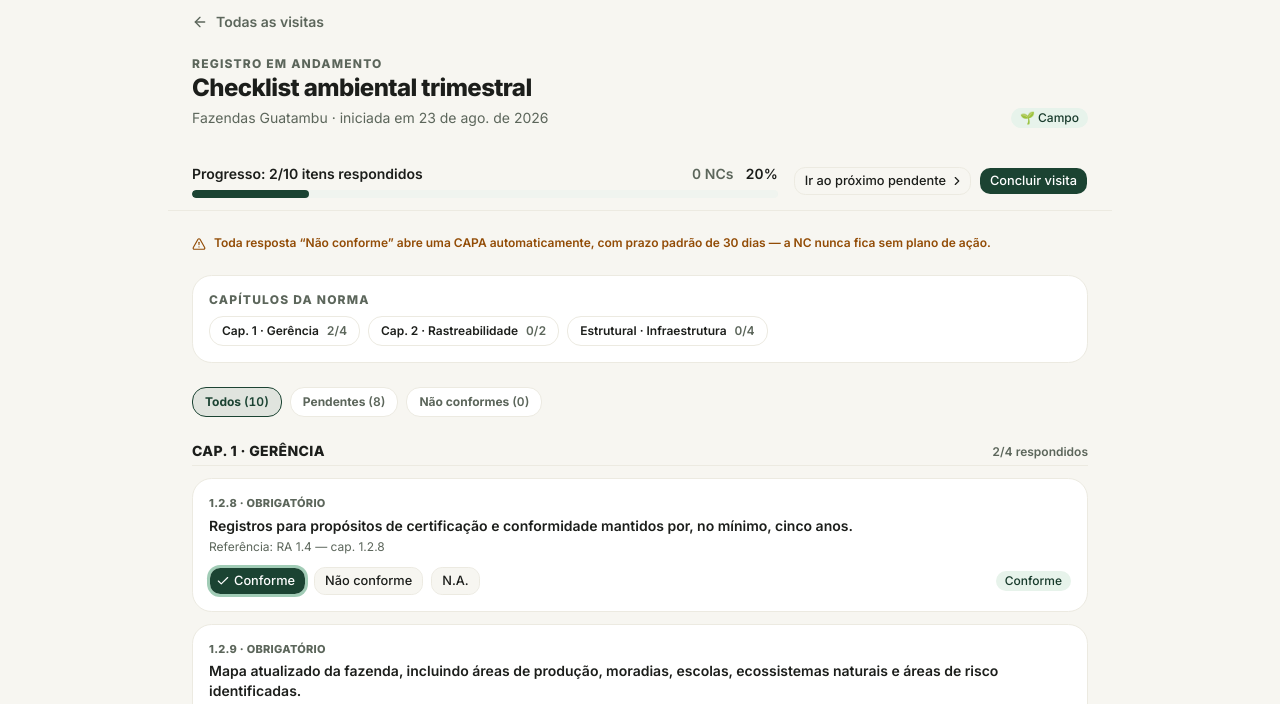
Test: ExecucaoVisita — filtro da lista › filtra por pendentes e por não conformes, com o total em cada opção
The image size is (1280, 704).
Expected: the button "Todos (10)" is shown, x1=192 y1=387 x2=282 y2=417
Expected: the button "Não conformes (0)" is shown, x1=406 y1=387 x2=542 y2=417
What coordinates should you click on to do the following:
click the button "Pendentes (8)"
I would click on:
 (344, 402)
Its box is x1=290 y1=387 x2=398 y2=417.
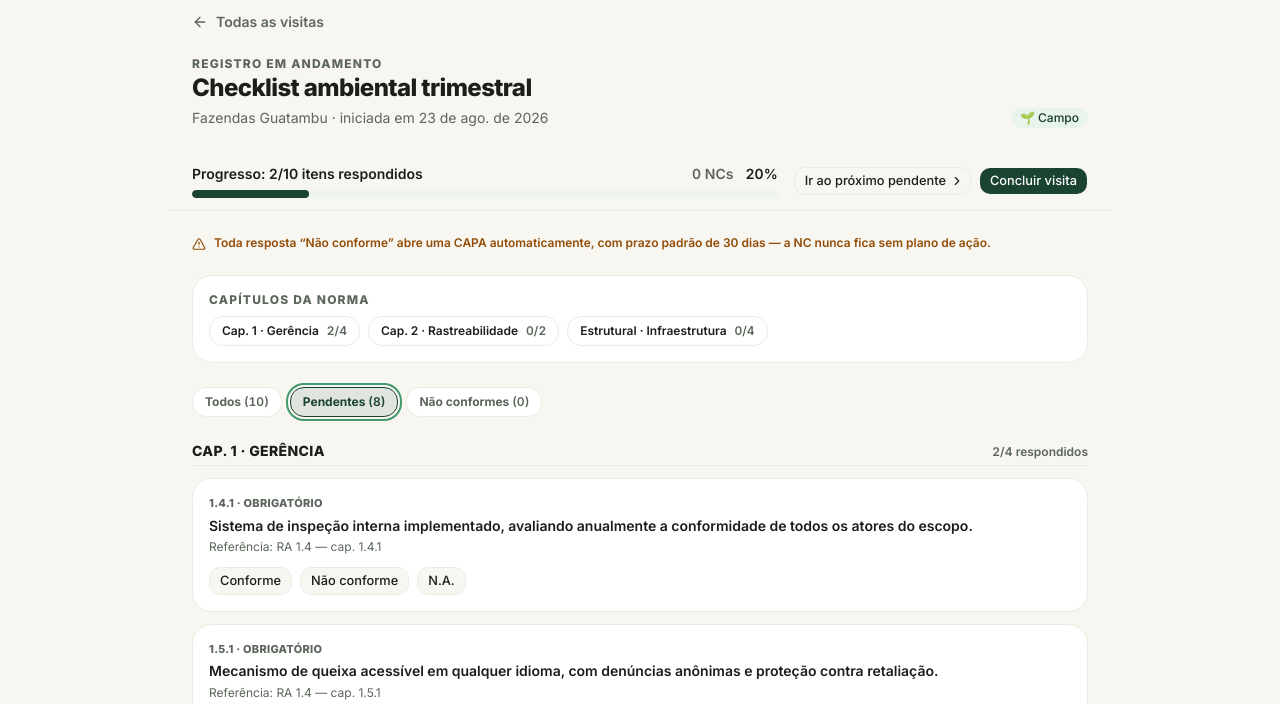
Expected: the text "2/4 respondidos" is shown, x1=992 y1=444 x2=1088 y2=460
Result: the number of elements named "Resposta do item" is 8
What coordinates should you click on to do the following:
click the button "Não conformes (0)"
I would click on:
 (474, 402)
Its box is x1=406 y1=387 x2=542 y2=417.
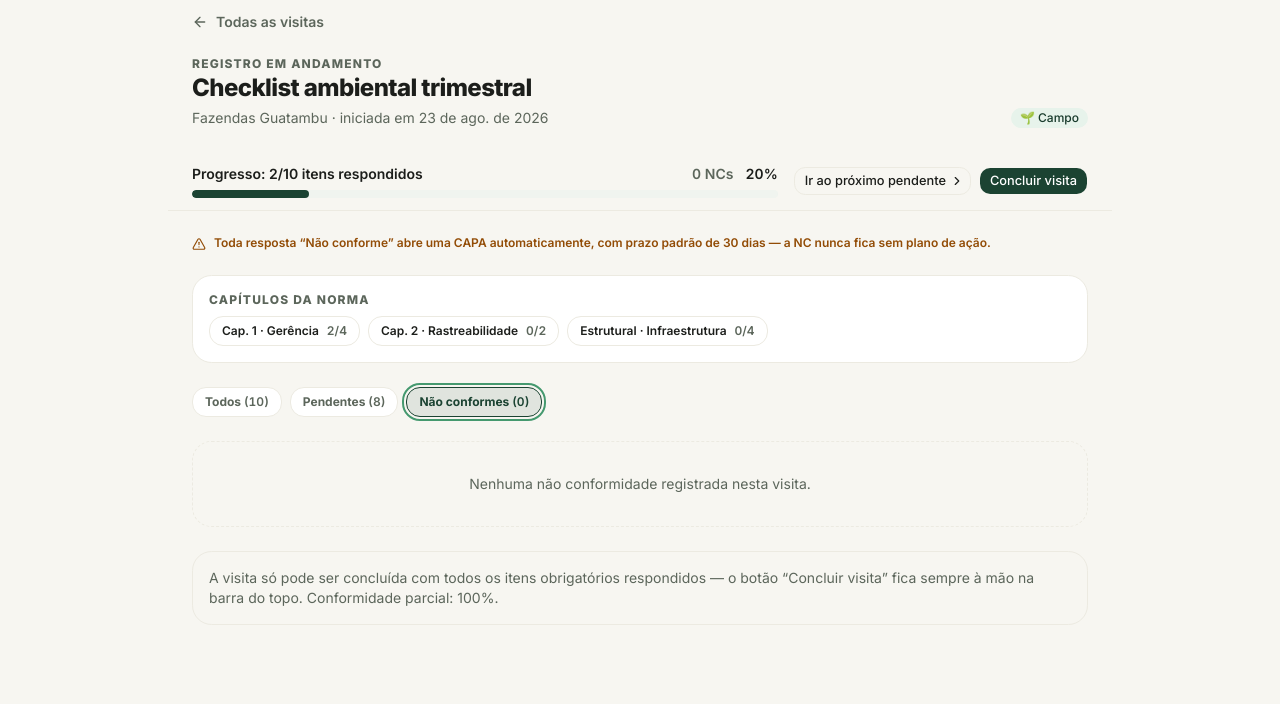
Result: the text "Nenhuma não conformidade registrada nesta visita." is shown at x1=192 y1=441 x2=1088 y2=527
